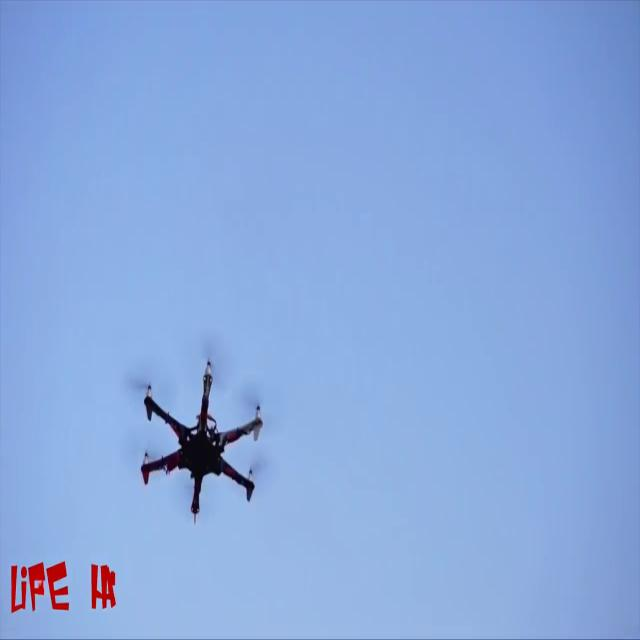drone: (92, 339, 280, 543)
